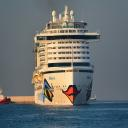cruises: (31, 6, 103, 109)
